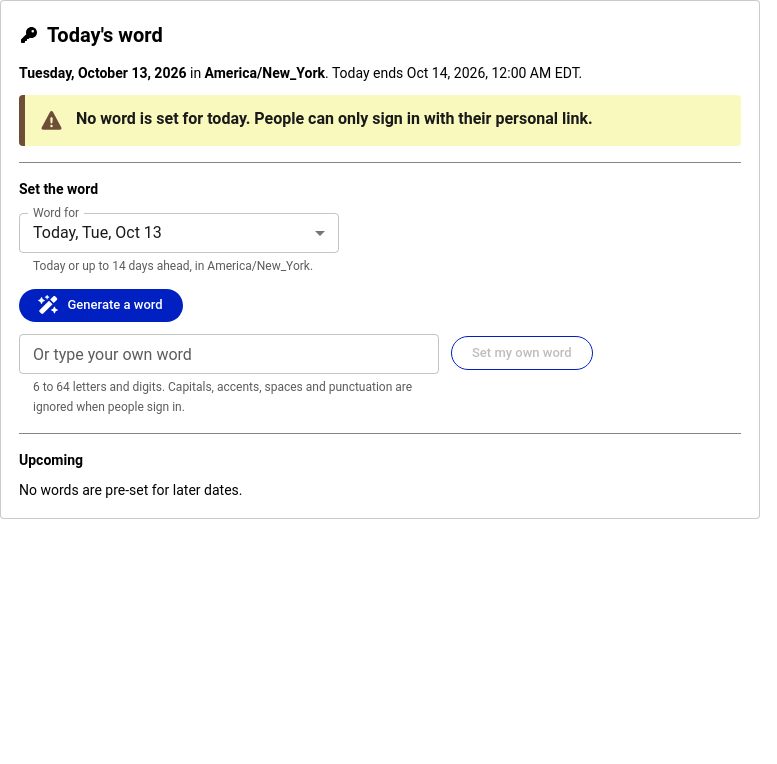
Test case: a typed word › is not left in the mutation cache (as `variables`) or any store, success or failure
First a rejected submit: the failed mutation's variables must be released too.
Click the field labelled "Or type your own word". click: coordinates (229, 354)
box: [19,334,439,374]
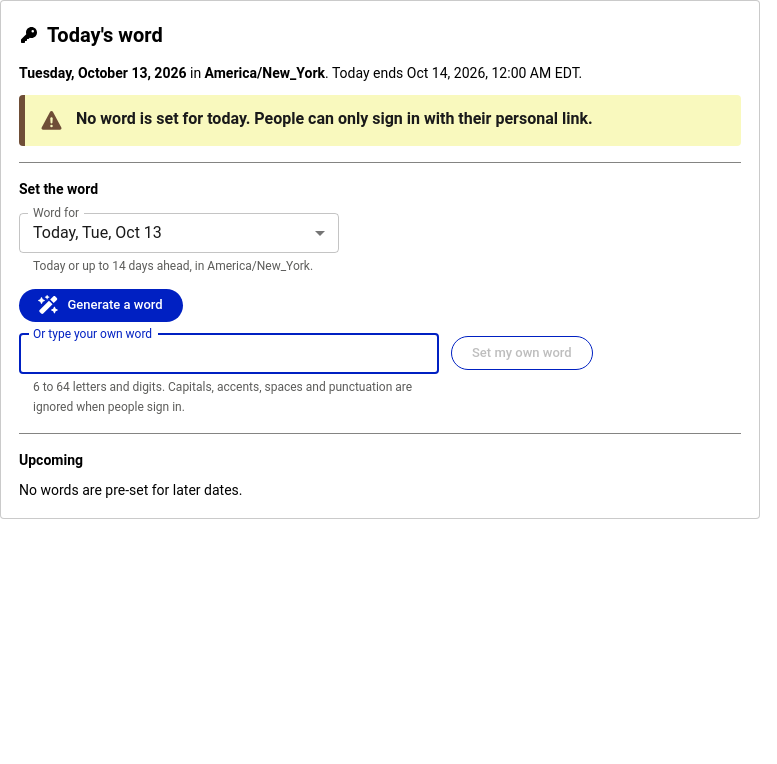
Type keys "Granite Harbor 4417"
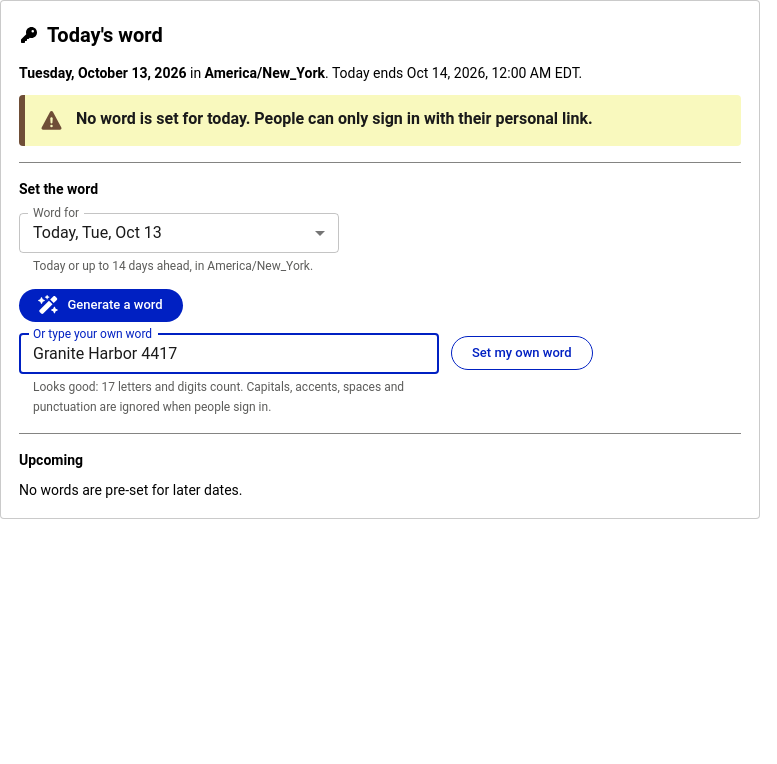
Click the button "Set my own word". click: coordinates (522, 353)
box: [451,336,593,370]
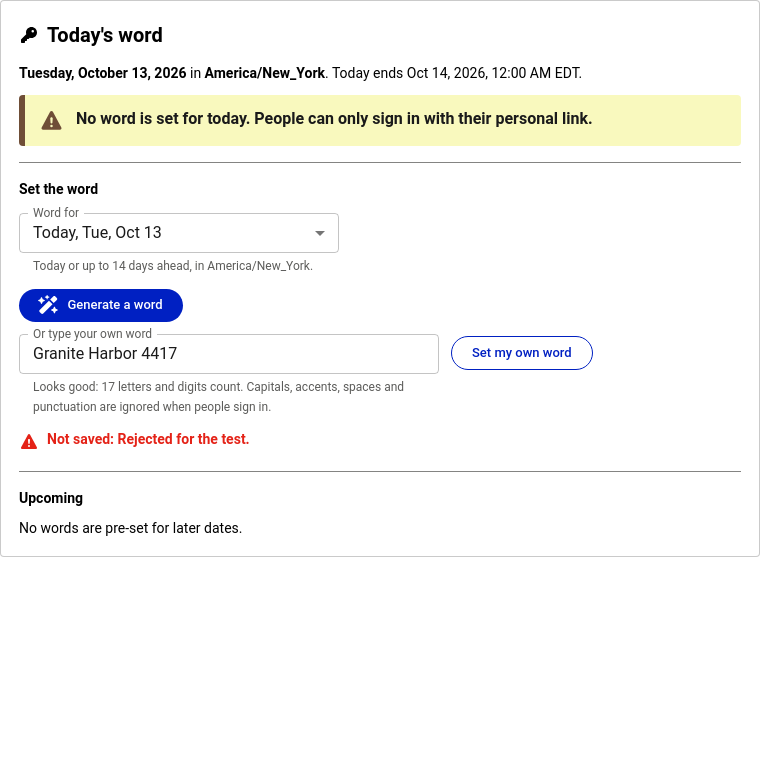
Result: the message "Not saved: Rejected for the test." is shown at [19,432,250,450]
Then an accepted one.
Click the button "Set my own word". click: coordinates (522, 353)
box: [451,336,593,370]
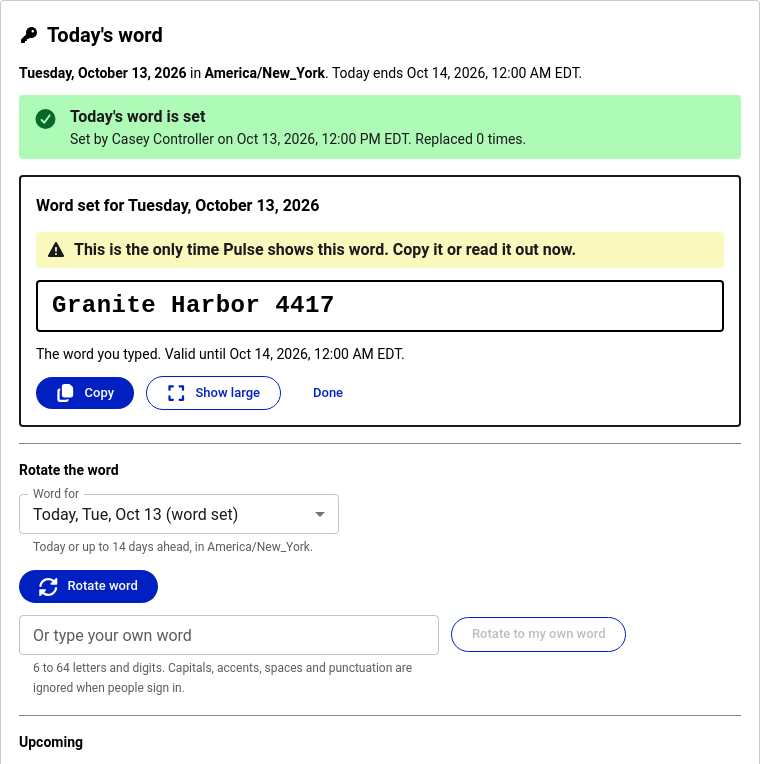
Result: the element with test id "day-word-result" is shown at [19,175,741,427]
Result: the text with test id "day-word-value" reads "Granite Harbor 4417" at [52,292,335,319]
Result: the element with test id "day-word-status-set" is shown at [19,95,741,159]
Click the button "Done". click: coordinates (328, 393)
box: [293,377,363,409]
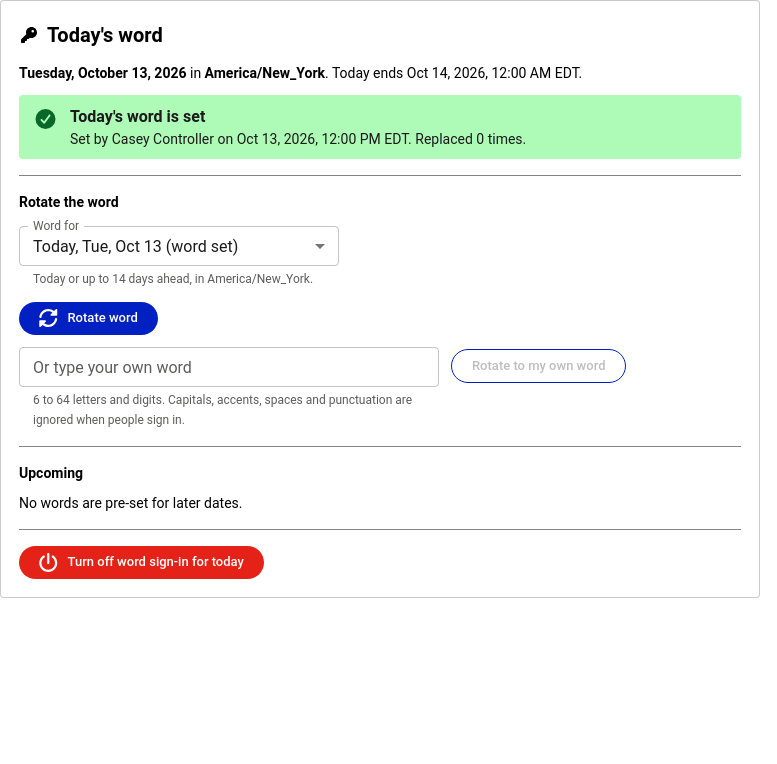
Result: the text "Granite Harbor 4417" is gone
